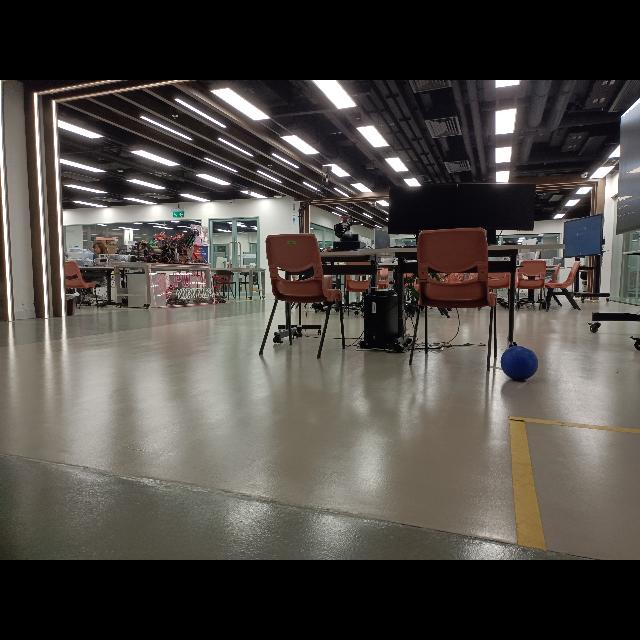B: (500, 346, 538, 379)
